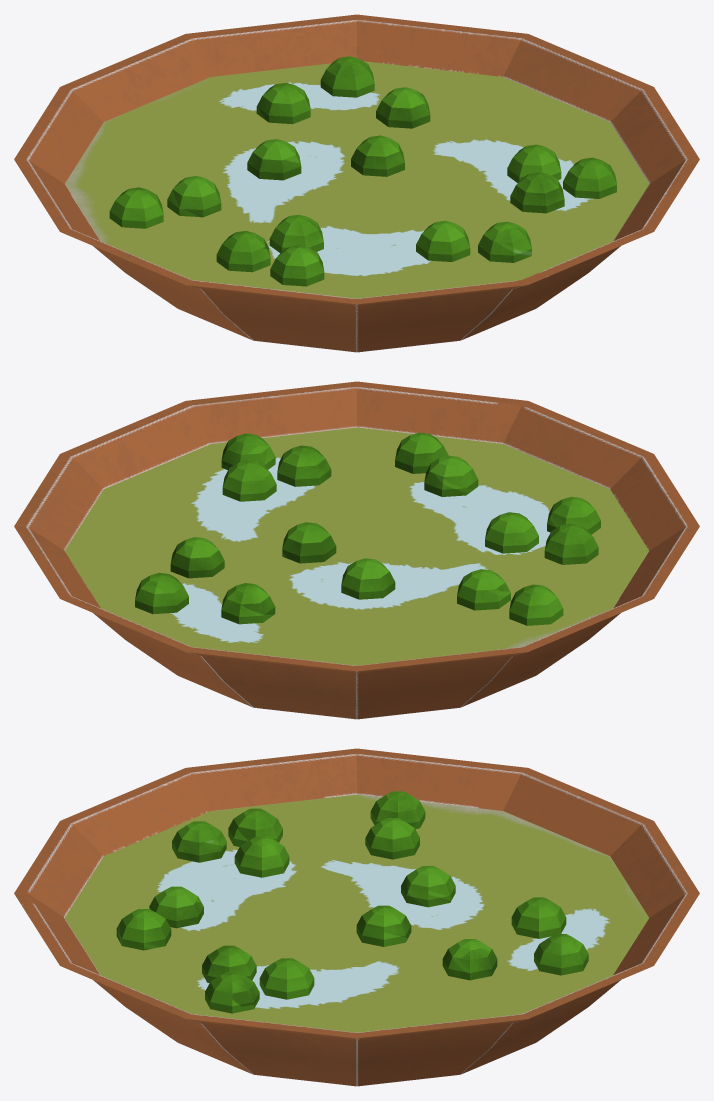
Rendered from cremaFull.glb.
3 renders of one model, top to bottom at view 1: azimuth 30°, elevation 25°; view 2: azimuth 150°, elevation 25°; view 3: azimuth 270°, elevation 25°, orthographic.
Parts seen in each view (by area): view 1: Plato3, polySurface42; view 2: Plato3, polySurface42; view 3: Plato3, polySurface42.
Part boxes in pixels (x1,y1,x2,y2): Plato3: (14,14,699,352); polySurface42: (109,56,616,286); Plato3: (14,381,699,719); polySurface42: (135,432,600,625); Plato3: (14,748,699,1086); polySurface42: (116,791,588,1013).
Size of the model in its own units: 2.3 by 0.5218 by 2.3.
3 materials, 3 textured.
